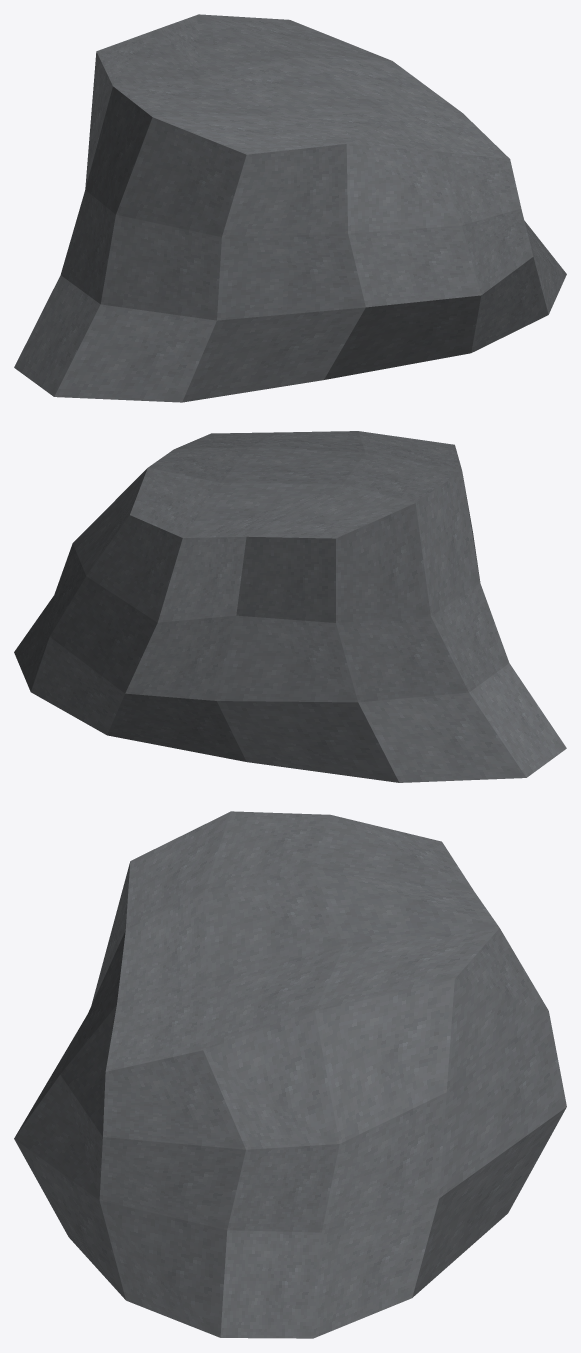
File: Rock3.glb
3 renders of one model, top to bottom at view 1: azimuth 30°, elevation 25°; view 2: azimuth 150°, elevation 25°; view 3: azimuth 270°, elevation 25°, orthographic. The views are drawn at different scales.
Parts seen in each view (by area): view 1: Rock_12; view 2: Rock_12; view 3: Rock_12.
Boxes of the visible parts, left/top/right/bottom form: Rock_12: left=14, top=14, right=566, bottom=402; Rock_12: left=14, top=431, right=566, bottom=782; Rock_12: left=14, top=811, right=566, bottom=1338.
Size of the model in its own units: 4.91 by 2.33 by 3.96.
1 material, 1 textured.
